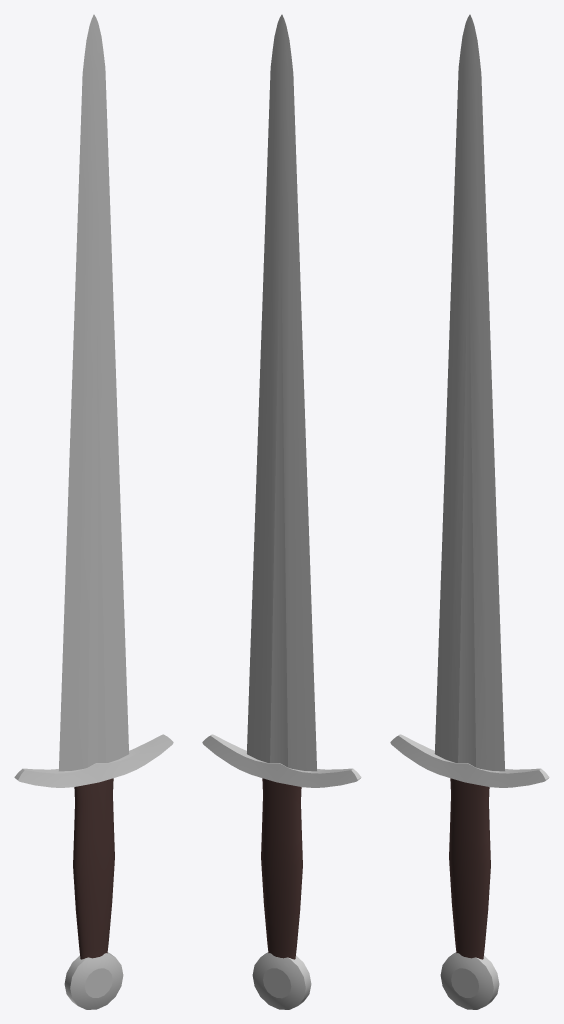
Rendered from shortsword.gltf.
3 renders of one model, left to right at view 1: azimuth 30°, elevation 25°; view 2: azimuth 150°, elevation 25°; view 3: azimuth 330°, elevation 25°, orthographic.
Visible parts, largest first — view 1: Cylinder; view 2: Cylinder; view 3: Cylinder.
Boxes of the visible parts, <box> form: Cylinder: <box>14,14,173,1009</box>; Cylinder: <box>202,14,361,1009</box>; Cylinder: <box>390,14,549,1009</box>.
Bounding box in the file's own units: 0.1292 × 0.7883 × 0.016.
1 material, 1 textured.
